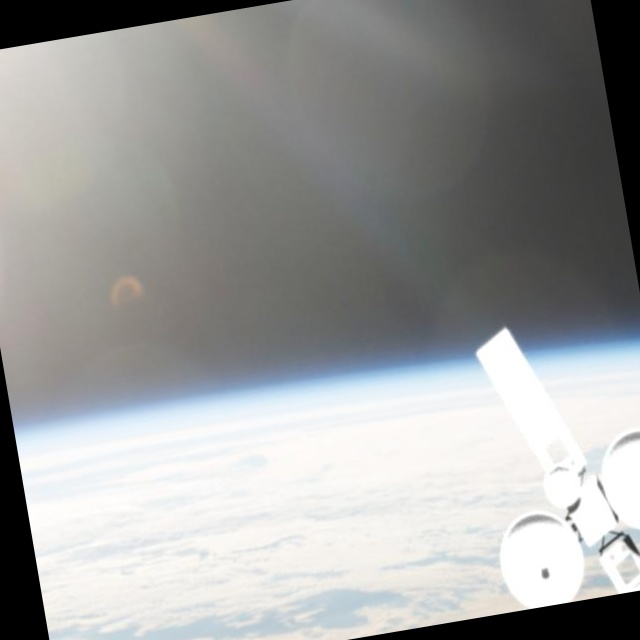satellite: (433, 290, 640, 617)
